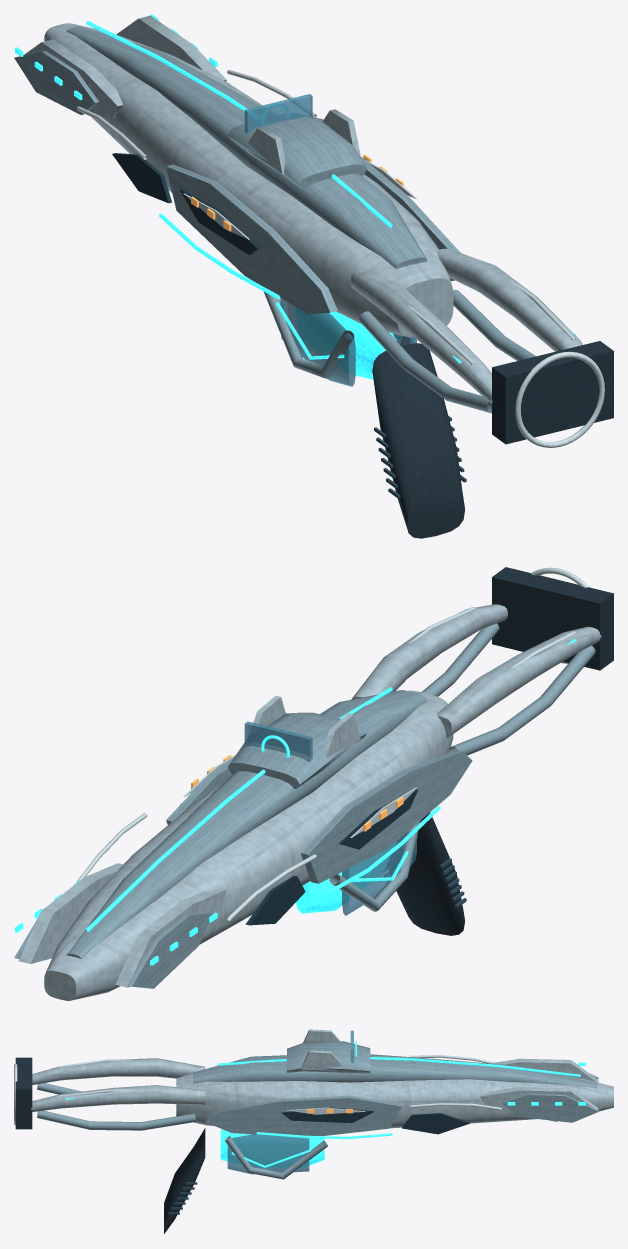
The model's file is aether9-specter-glacier-performance.glb.
The picture shows the model from 3 angles, top to bottom: view 1: azimuth 30°, elevation 25°; view 2: azimuth 150°, elevation 25°; view 3: azimuth 270°, elevation 25°; orthographic projection. The views are drawn at different scales.
Visible parts, largest first — view 1: A9.SHELL.C.001.01_Ceramic_monocoque_visu, A9.SPINE.C.002.02_Raised_continuous_tita, A9.GRIP.C.032.04_Graphite_handguard_sup, A9.REAR.C.047.05_Rear_ergonomic_polymer, A9.PANELS.L.004.LEFT_Swept_structural_che, A9.VISOR.C.057.09_Integrated_optical_cro, A9.REAR.L.013.LEFT_Monolithic_stock_arc, A9.REAR.R.027.RIGHT_Monolithic_stock_ar, A9.CORE.C.049.07_Floating_cyan_energy_p, A9.CORE.L.050.08_Laminated_outer_core_g, A9.PANELS.L.068.LEFT_Faceted_floating_pro, A9.REAR.L.014.LEFT_Lower_open_cantileve (+12 smaller); view 2: A9.SHELL.C.001.01_Ceramic_monocoque_visu, A9.SPINE.C.002.02_Raised_continuous_tita, A9.REAR.C.047.05_Rear_ergonomic_polymer, A9.PANELS.L.004.LEFT_Swept_structural_che, A9.VISOR.C.057.09_Integrated_optical_cro, A9.GRIP.C.032.04_Graphite_handguard_sup, A9.REAR.L.013.LEFT_Monolithic_stock_arc, A9.REAR.R.027.RIGHT_Monolithic_stock_ar, A9.PANELS.R.021.RIGHT_Vent_side_aero_fin, A9.PANELS.L.068.LEFT_Faceted_floating_pro, A9.REAR.L.014.LEFT_Lower_open_cantileve, A9.PANELS.L.007.LEFT_Vent_side_aero_fin (+12 smaller); view 3: A9.SHELL.C.001.01_Ceramic_monocoque_visu, A9.SPINE.C.002.02_Raised_continuous_tita, A9.PANELS.R.018.RIGHT_Swept_structural_ch, A9.REAR.R.027.RIGHT_Monolithic_stock_ar, A9.REAR.L.013.LEFT_Monolithic_stock_arc, A9.CORE.C.049.07_Floating_cyan_energy_p, A9.CORE.R.051.08_Laminated_outer_core_g, A9.VISOR.C.057.09_Integrated_optical_cro, A9.PANELS.R.072.RIGHT_Faceted_floating_pr, A9.GRIP.C.032.04_Graphite_handguard_sup, A9.REAR.R.028.RIGHT_Lower_open_cantilev, A9.REAR.C.047.05_Rear_ergonomic_polymer (+11 smaller).
Boxes of the visible parts, <box> form: A9.SHELL.C.001.01_Ceramic_monocoque_visu: <box>44,23,453,337</box>; A9.SPINE.C.002.02_Raised_continuous_tita: <box>66,26,427,268</box>; A9.GRIP.C.032.04_Graphite_handguard_sup: <box>372,343,464,538</box>; A9.REAR.C.047.05_Rear_ergonomic_polymer: <box>492,341,613,444</box>; A9.PANELS.L.004.LEFT_Swept_structural_che: <box>166,164,337,314</box>; A9.VISOR.C.057.09_Integrated_optical_cro: <box>228,114,366,189</box>; A9.REAR.L.013.LEFT_Monolithic_stock_arc: <box>350,268,492,403</box>; A9.REAR.R.027.RIGHT_Monolithic_stock_ar: <box>437,248,582,351</box>; A9.CORE.C.049.07_Floating_cyan_energy_p: <box>295,307,394,379</box>; A9.CORE.L.050.08_Laminated_outer_core_g: <box>280,297,355,386</box>; A9.PANELS.L.068.LEFT_Faceted_floating_pro: <box>14,51,98,114</box>; A9.REAR.L.014.LEFT_Lower_open_cantileve: <box>359,311,491,413</box>; A9.SHELL.C.001.01_Ceramic_monocoque_visu: <box>44,690,453,1000</box>; A9.SPINE.C.002.02_Raised_continuous_tita: <box>67,690,427,958</box>; A9.REAR.C.047.05_Rear_ergonomic_polymer: <box>492,567,613,670</box>; A9.PANELS.L.004.LEFT_Swept_structural_che: <box>301,750,472,883</box>; A9.VISOR.C.057.09_Integrated_optical_cro: <box>228,712,366,788</box>; A9.GRIP.C.032.04_Graphite_handguard_sup: <box>387,812,464,935</box>; A9.REAR.L.013.LEFT_Monolithic_stock_arc: <box>437,626,601,737</box>; A9.REAR.R.027.RIGHT_Monolithic_stock_ar: <box>351,604,507,699</box>; A9.PANELS.R.021.RIGHT_Vent_side_aero_fin: <box>18,863,123,963</box>; A9.PANELS.L.068.LEFT_Faceted_floating_pro: <box>127,912,212,988</box>; A9.REAR.L.014.LEFT_Lower_open_cantileve: <box>448,645,595,755</box>; A9.PANELS.L.007.LEFT_Vent_side_aero_fin: <box>115,888,226,987</box>; A9.SHELL.C.001.01_Ceramic_monocoque_visu: <box>176,1073,613,1128</box>; A9.SPINE.C.002.02_Raised_continuous_tita: <box>193,1054,597,1088</box>; A9.PANELS.R.018.RIGHT_Swept_structural_ch: <box>205,1095,401,1135</box>; A9.REAR.R.027.RIGHT_Monolithic_stock_ar: <box>31,1085,205,1111</box>; A9.REAR.L.013.LEFT_Monolithic_stock_arc: <box>32,1058,205,1084</box>; A9.CORE.C.049.07_Floating_cyan_energy_p: <box>220,1129,324,1168</box>; A9.CORE.R.051.08_Laminated_outer_core_g: <box>227,1134,309,1174</box>; A9.VISOR.C.057.09_Integrated_optical_cro: <box>287,1041,370,1073</box>; A9.PANELS.R.072.RIGHT_Faceted_floating_pr: <box>501,1093,598,1122</box>; A9.GRIP.C.032.04_Graphite_handguard_sup: <box>164,1128,205,1233</box>; A9.REAR.R.028.RIGHT_Lower_open_cantilev: <box>37,1110,196,1130</box>; A9.REAR.C.047.05_Rear_ergonomic_polymer: <box>15,1057,32,1129</box>.
Size of the model in its own units: 0.8735 by 1.52 by 4.33.
Materials: 9 (9 with a texture image).
